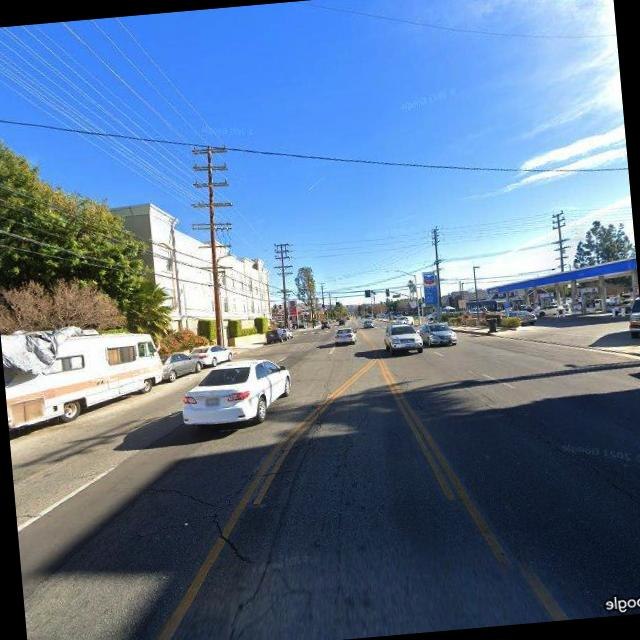crack: (188, 364, 366, 637), (482, 383, 640, 517)
